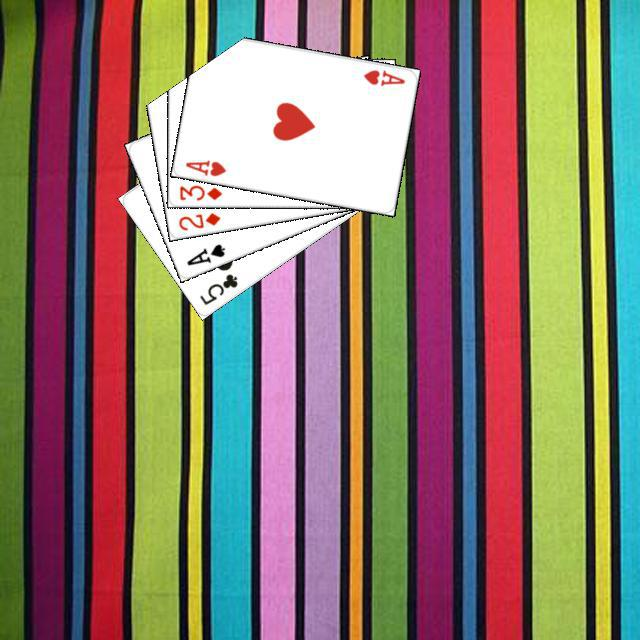2d: (174, 207, 222, 232)
3d: (174, 181, 223, 202)
5c: (195, 269, 239, 307)
Ah: (180, 155, 228, 178), (359, 65, 406, 87)
As: (181, 239, 227, 267)
